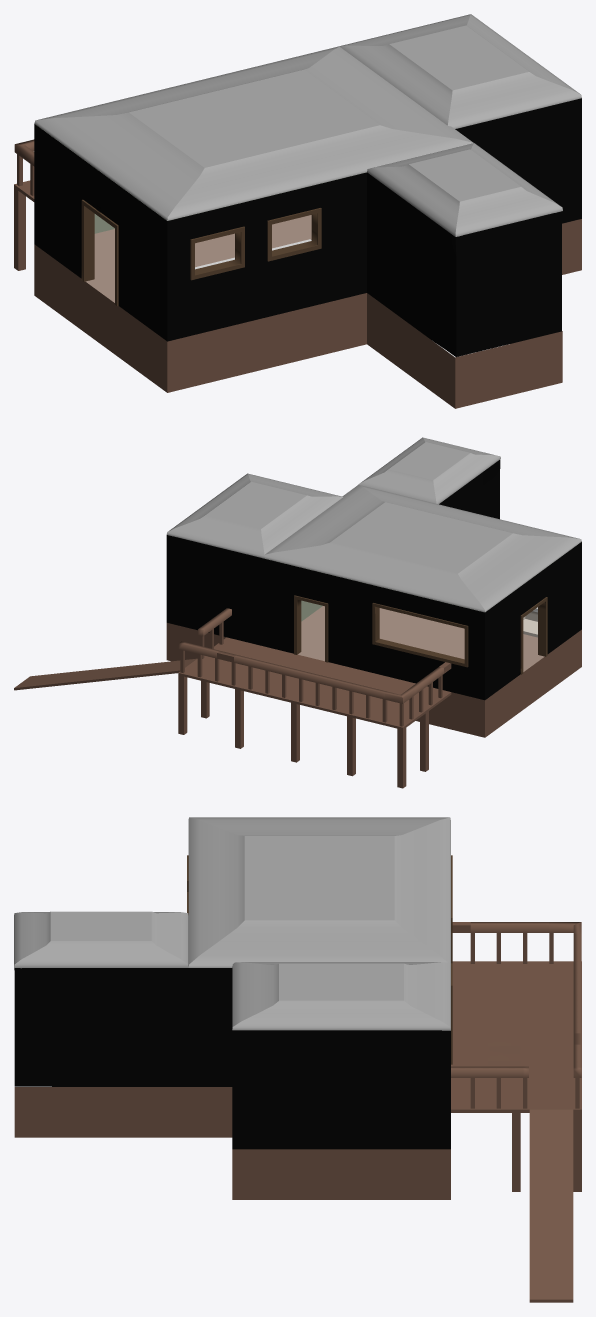
File: Cabin.fbx
3 renders of one model, top to bottom at view 1: azimuth 30°, elevation 25°; view 2: azimuth 150°, elevation 25°; view 3: azimuth 270°, elevation 25°, orthographic. The views are drawn at different scales.
Visible parts, largest first — view 1: pPlane2, pCube1, pCube2, pCube3; view 2: pPlane2, pCube1, pCube2, pCube3; view 3: pPlane2, pCube1, pCube2, pCube3.
Boxes of the visible parts, x1,y1,x2,y2 form: pPlane2: [14, 98, 581, 408]; pCube1: [34, 46, 473, 220]; pCube2: [338, 14, 581, 128]; pCube3: [367, 143, 562, 236]; pPlane2: [14, 459, 581, 788]; pCube1: [264, 485, 581, 612]; pCube2: [166, 473, 342, 558]; pCube3: [358, 437, 500, 504]; pPlane2: [14, 855, 581, 1302]; pCube1: [188, 817, 450, 967]; pCube2: [232, 962, 450, 1030]; pCube3: [14, 911, 188, 967].
Bounding box in the file's own units: 38.14 × 13.71 × 32.49.
